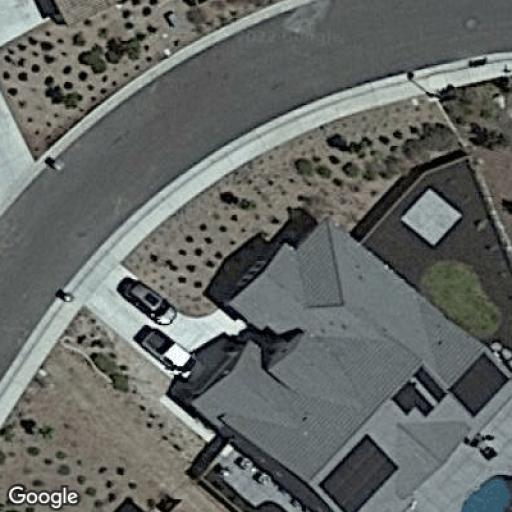solar-panel: (316, 432, 399, 512), (448, 352, 512, 418), (390, 364, 447, 418)
